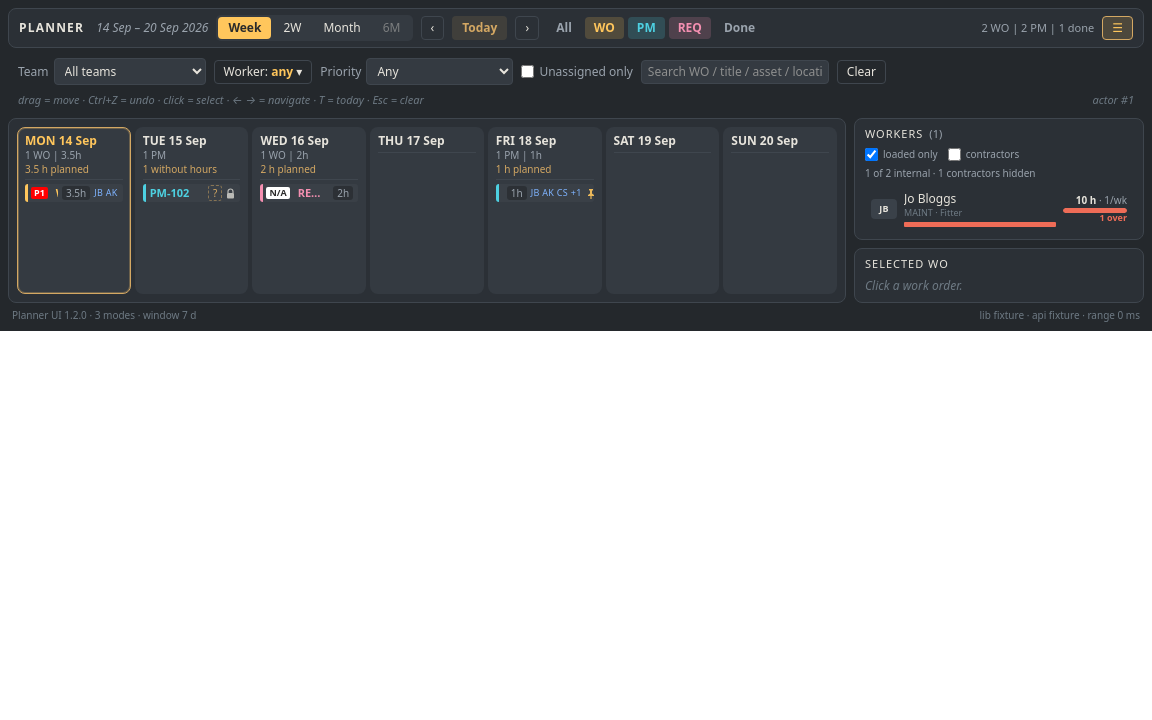
Test: PlannerView - moves (DP3b) › CONFIRM opens the dialog; Move it posts again with confirm:true
This screenshot has width=1152, height=720.
Press the mouse on the element with class "chip" showing "P1 WO-101 3.5h JB AK" at (74, 193), box [25,184,123,202]
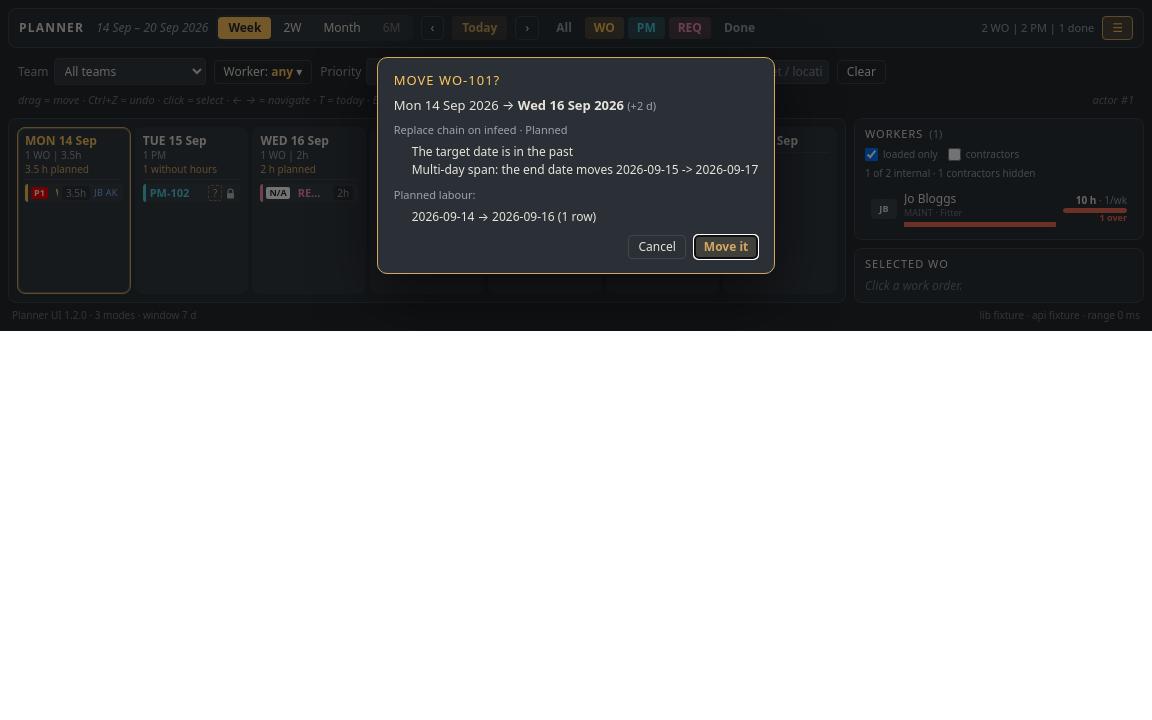
Now the element that starts with "MOVE WO-101?" is shown, box [0,0,1151,331]
Now the heading "MOVE WO-101?" is shown, box [394,71,500,89]
Click the button "Move it".
click(726, 247)  # box [694,235,758,259]
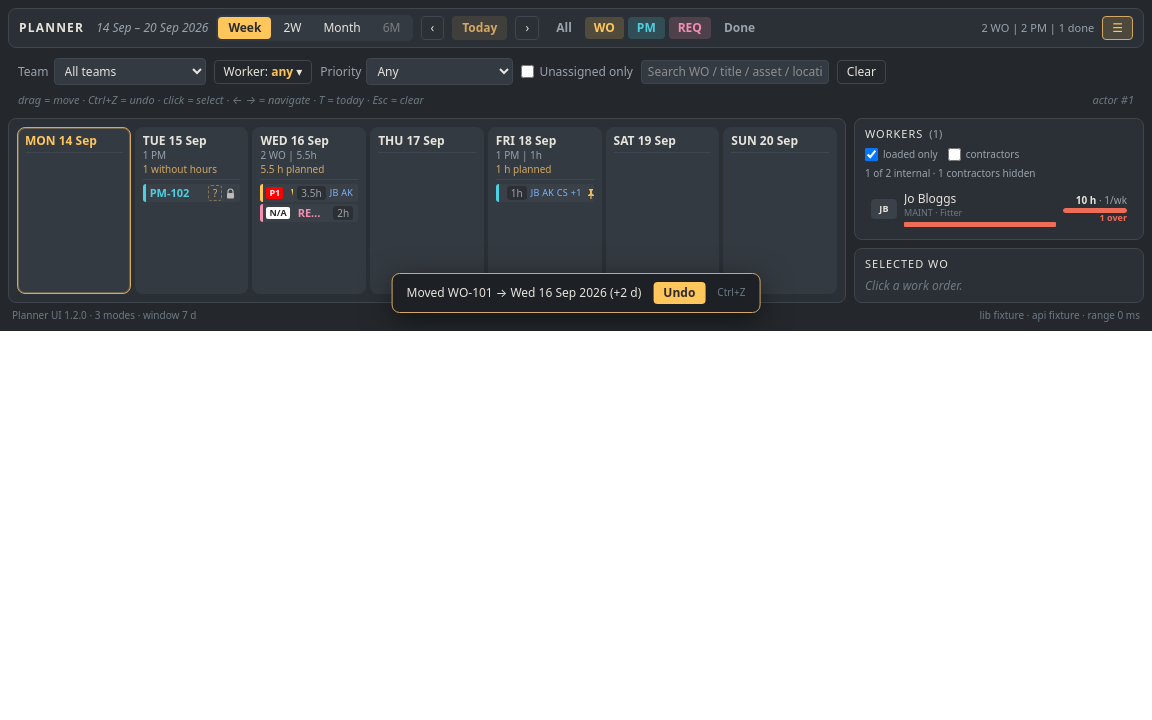
Now the text with class "msg" shows "Moved WO-101", box [407,284,641,300]
